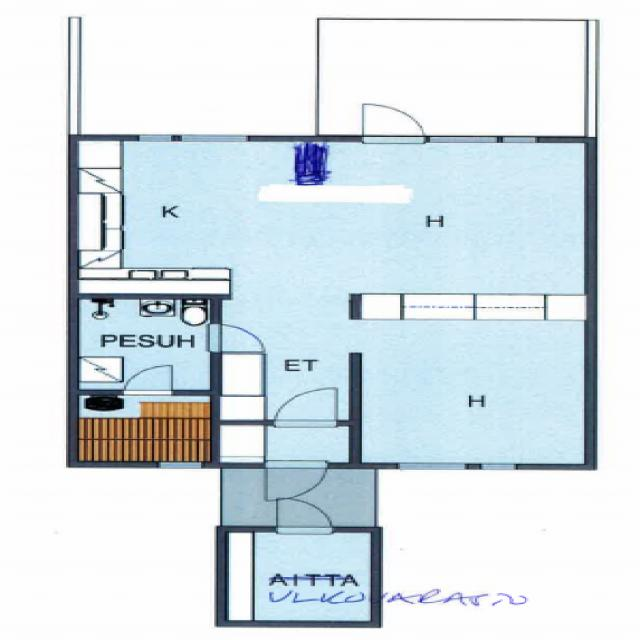door: (363, 100, 423, 142), (275, 384, 336, 425), (266, 462, 326, 503), (277, 494, 331, 532), (210, 324, 268, 352), (124, 362, 172, 395)
